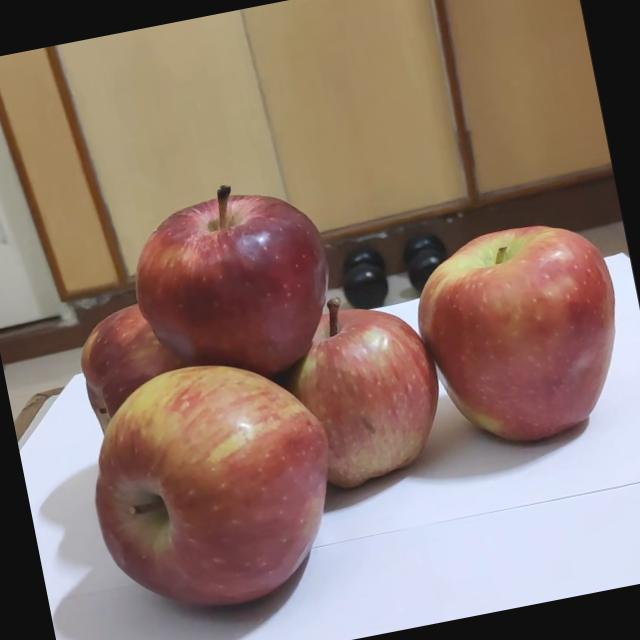apple: (66, 349, 358, 640), (383, 188, 640, 484), (106, 155, 362, 412), (253, 282, 468, 512), (51, 283, 268, 457)
